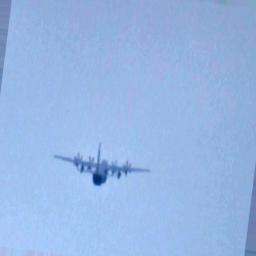Airplane: (56, 147, 151, 185)
